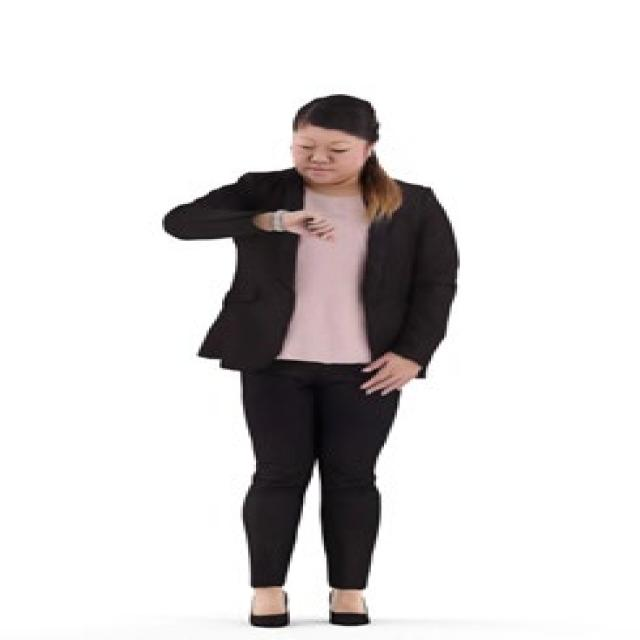standing: (157, 92, 467, 634)
